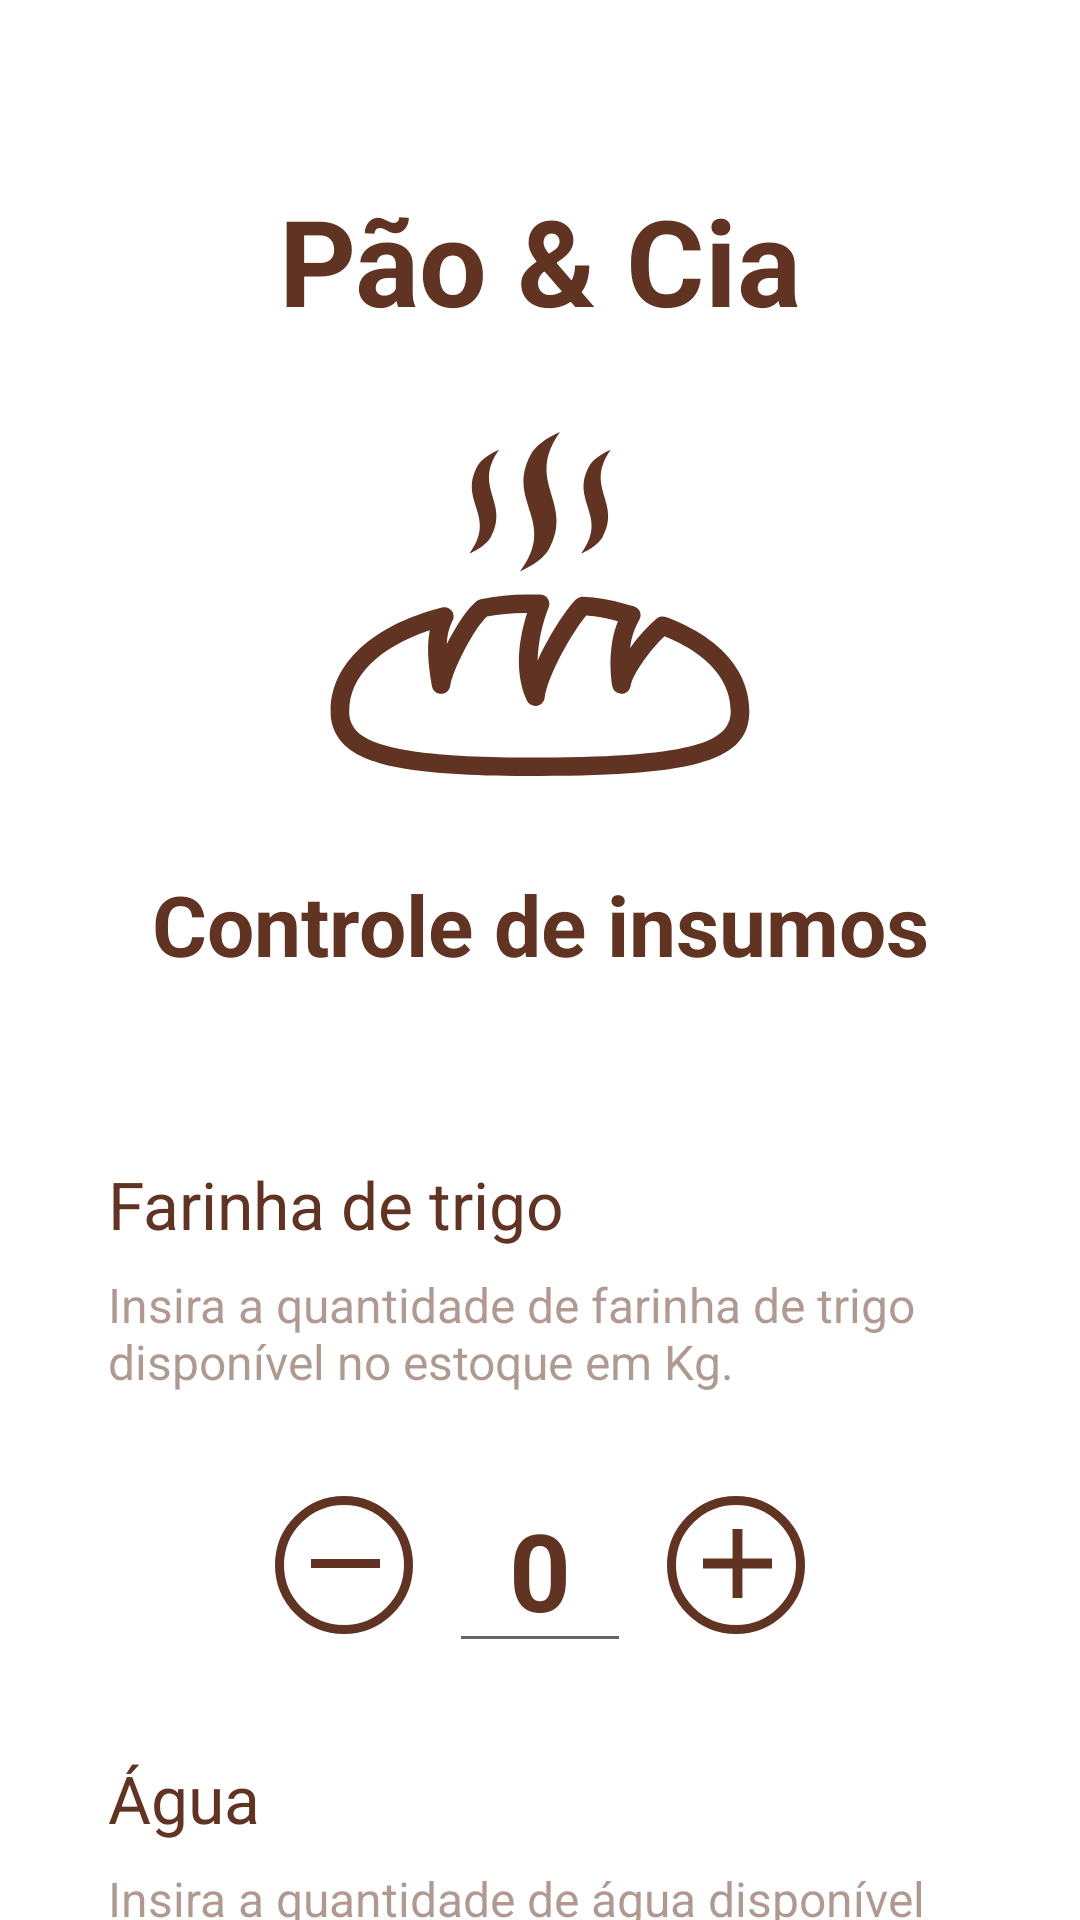

Icons on this 1080x1920 Android screen, each with the point to tap as (x=x, y=y):
decrement: (x=344, y=1565)
increment: (x=736, y=1565)
